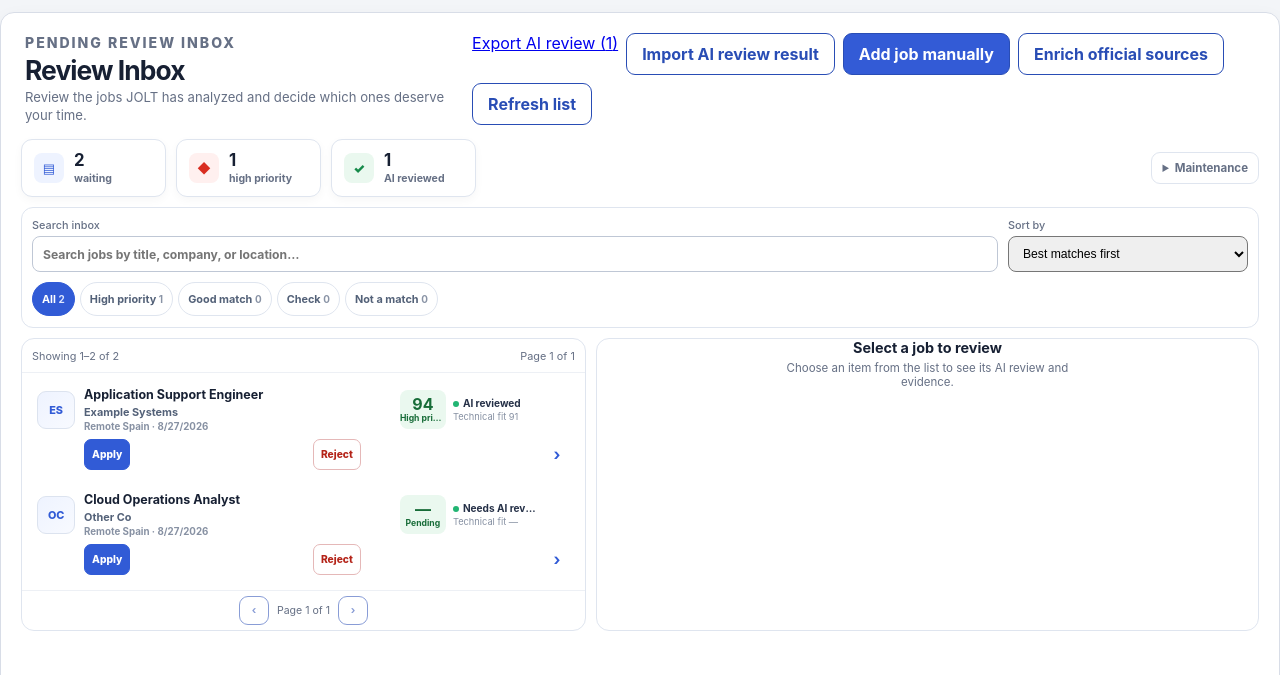
Test: App AI review workflow › enriches official sources from the Review Inbox toolbar
Expected: the heading "Cloud Operations Analyst" is shown, [84, 492, 240, 507]
Expected: the element "Import AI review result" is shown, [472, 33, 1255, 125]
Click the button "Enrich official sources".
click(1121, 54)  # box [1018, 33, 1224, 75]
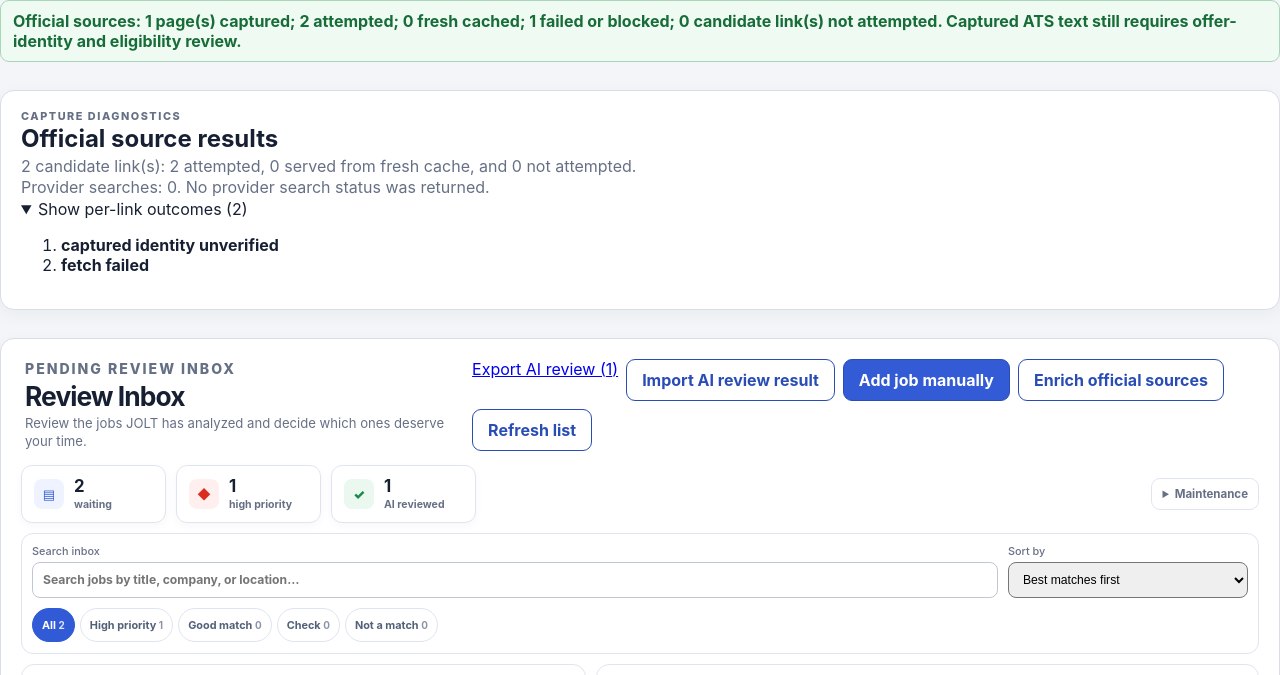
Expected: the message shows "1 page(s) captured", [13, 11, 1237, 51]
Expected: the message shows "1 failed or blocked", [13, 11, 1237, 51]
